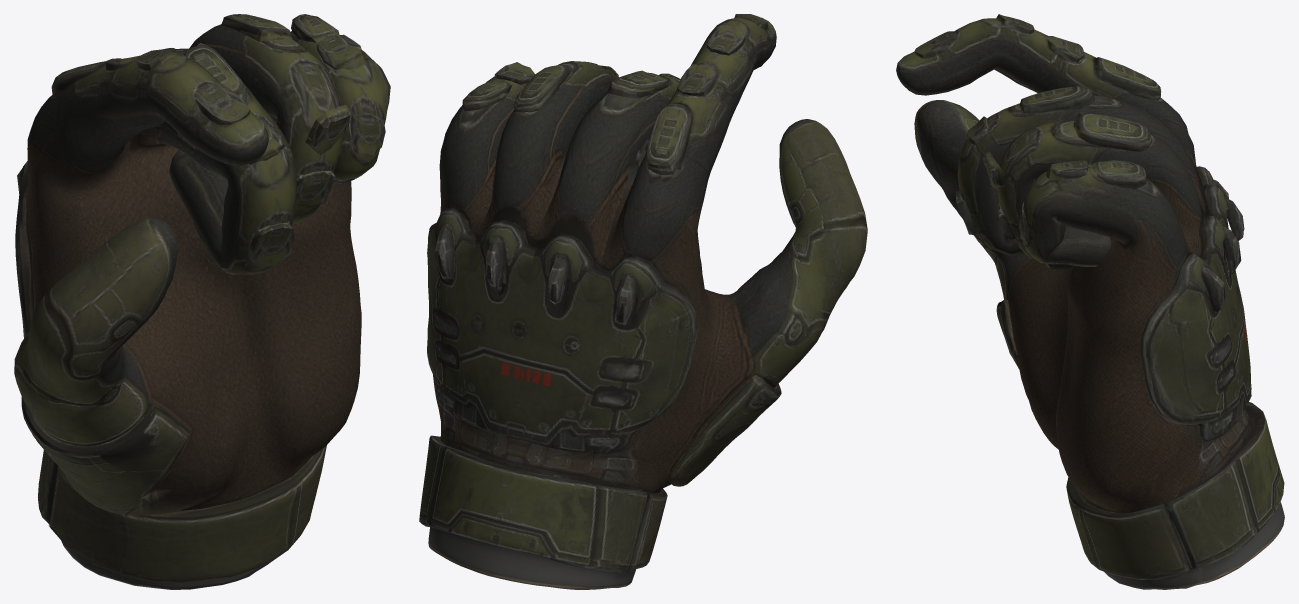
The model's file is DOOM_LEFT_HAND_GUN.glb.
3 renders of one model, left to right at view 1: azimuth 30°, elevation 25°; view 2: azimuth 150°, elevation 25°; view 3: azimuth 270°, elevation 25°, orthographic. The views are drawn at different scales.
Visible parts, largest first — view 1: Mesh0.001; view 2: Mesh0.001; view 3: Mesh0.001.
Part boxes in pixels (box(x1,y1,x2,y2)): Mesh0.001: box(14, 14, 390, 589); Mesh0.001: box(419, 14, 867, 589); Mesh0.001: box(896, 14, 1284, 589).
Bounding box in the file's own units: 0.5234 × 0.7402 × 0.5232.
1 material, 1 textured.
